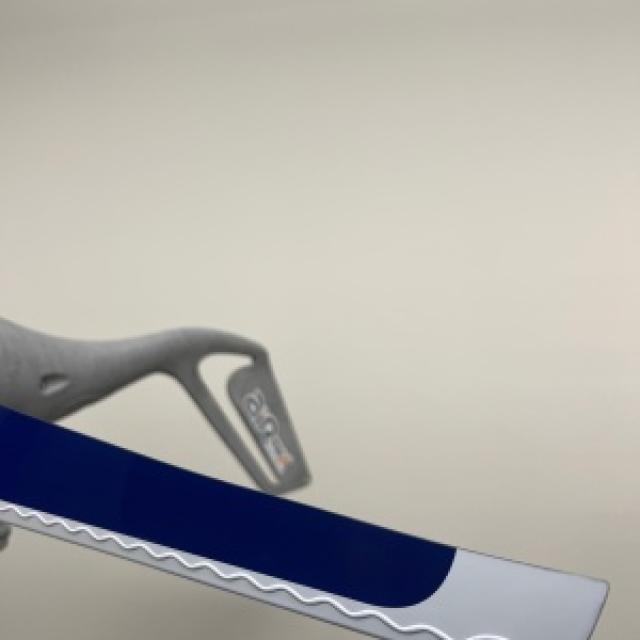healthy: (0, 529, 369, 638)
